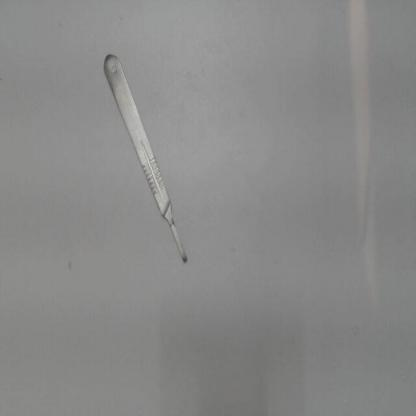No.4 BP Handle: (91, 41, 202, 284)
